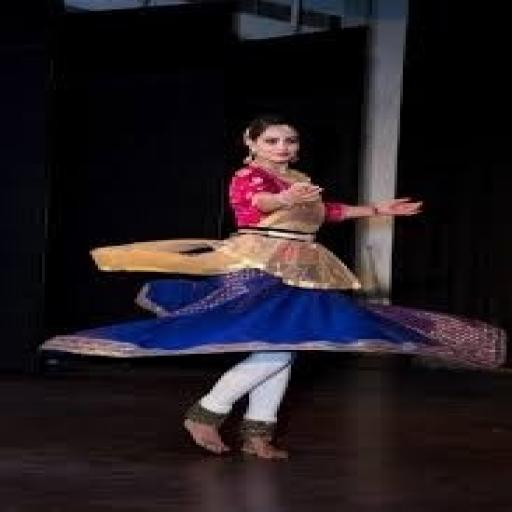dancing: (34, 112, 509, 464)
